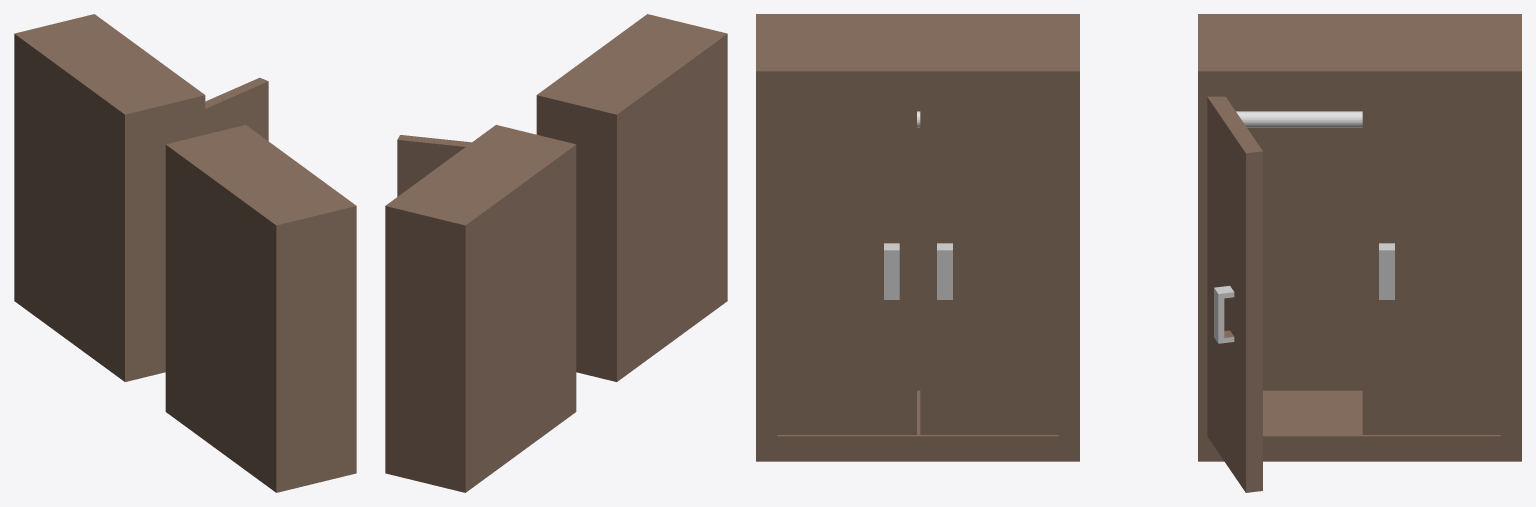
The model's file is closet.fbx.
The picture shows the model from 3 angles, left to right: view 1: azimuth 30°, elevation 25°; view 2: azimuth 150°, elevation 25°; view 3: azimuth 270°, elevation 25°; orthographic projection. The views are drawn at different scales.
Parts seen in each view (by area): view 1: Cube, Cube.005, Cube.002; view 2: Cube.005, Cube, Cube.002; view 3: Cube.005, Cube, Cube.003, Cube.004, Cube.001, Cube.002, Cylinder.001.
Boxes of the visible parts, left/top/right/bottom form: Cube: left=165, top=125, right=356, bottom=492; Cube.005: left=14, top=14, right=205, bottom=381; Cube.002: left=205, top=77, right=268, bottom=140; Cube.005: left=385, top=125, right=576, bottom=492; Cube: left=536, top=14, right=727, bottom=381; Cube.002: left=397, top=135, right=471, bottom=196; Cube.005: left=1198, top=14, right=1521, bottom=461; Cube: left=756, top=14, right=1079, bottom=461; Cube.003: left=777, top=96, right=916, bottom=434; Cube.004: left=920, top=96, right=1058, bottom=434; Cube.001: left=1362, top=96, right=1500, bottom=434; Cube.002: left=1207, top=96, right=1262, bottom=492; Cylinder.001: left=1236, top=111, right=1362, bottom=127.
Size of the model in its own units: 448 by 716 by 1273.
